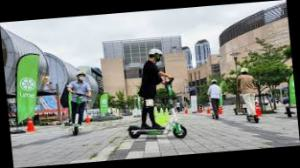helmet: (119, 45, 190, 144), (63, 69, 98, 138), (234, 65, 264, 126), (203, 77, 226, 121)
